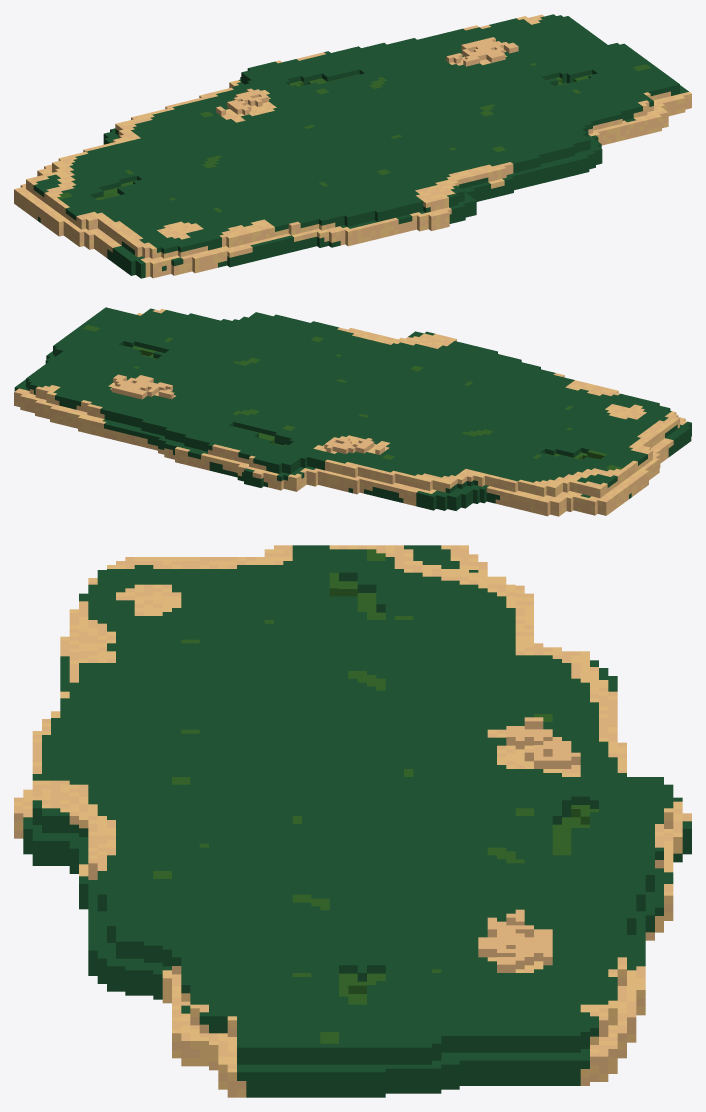
File: Voxel Virgin Island - Free Sample-4-GrassPatch.obj
The picture shows the model from 3 angles, top to bottom: view 1: azimuth 30°, elevation 25°; view 2: azimuth 150°, elevation 25°; view 3: azimuth 270°, elevation 25°; orthographic projection. The views are drawn at different scales.
Parts seen in each view (by area): view 1: GrassPatch; view 2: GrassPatch; view 3: GrassPatch.
Boxes of the visible parts, box(x1,y1,x2,y2) form: GrassPatch: box(14, 14, 691, 278); GrassPatch: box(14, 307, 691, 516); GrassPatch: box(14, 545, 691, 1097).
Bounding box in the file's own units: 2.64 × 0.12 × 1.46.
Materials: 1 (1 with a texture image).
